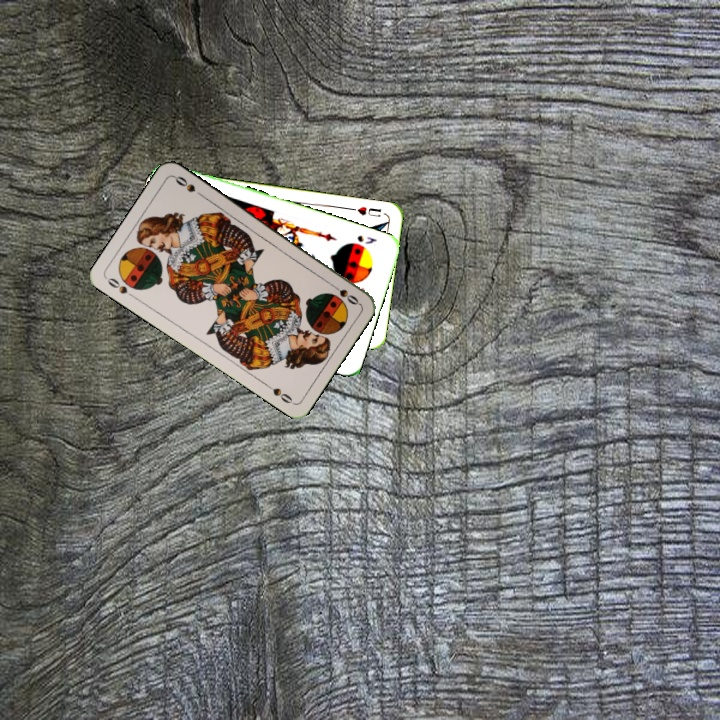HU: (353, 202, 384, 219)
SK: (353, 231, 380, 247)
SO: (326, 279, 361, 307), (103, 274, 139, 301)
